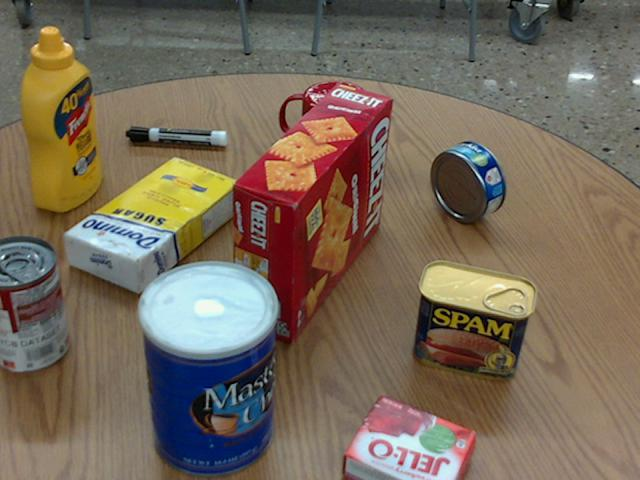cracker_box: (234, 83, 391, 339)
gelatin_box: (342, 395, 478, 479)
large_marker: (126, 125, 226, 145)
master_chef_can: (138, 261, 276, 477)
mug: (280, 81, 369, 173)
mustard_bottle: (23, 28, 100, 211)
potted_meat_can: (413, 259, 536, 379)
sugar_box: (63, 155, 239, 293)
tomato_soup_can: (0, 235, 68, 371)
tuna_fish_can: (429, 140, 504, 221)
